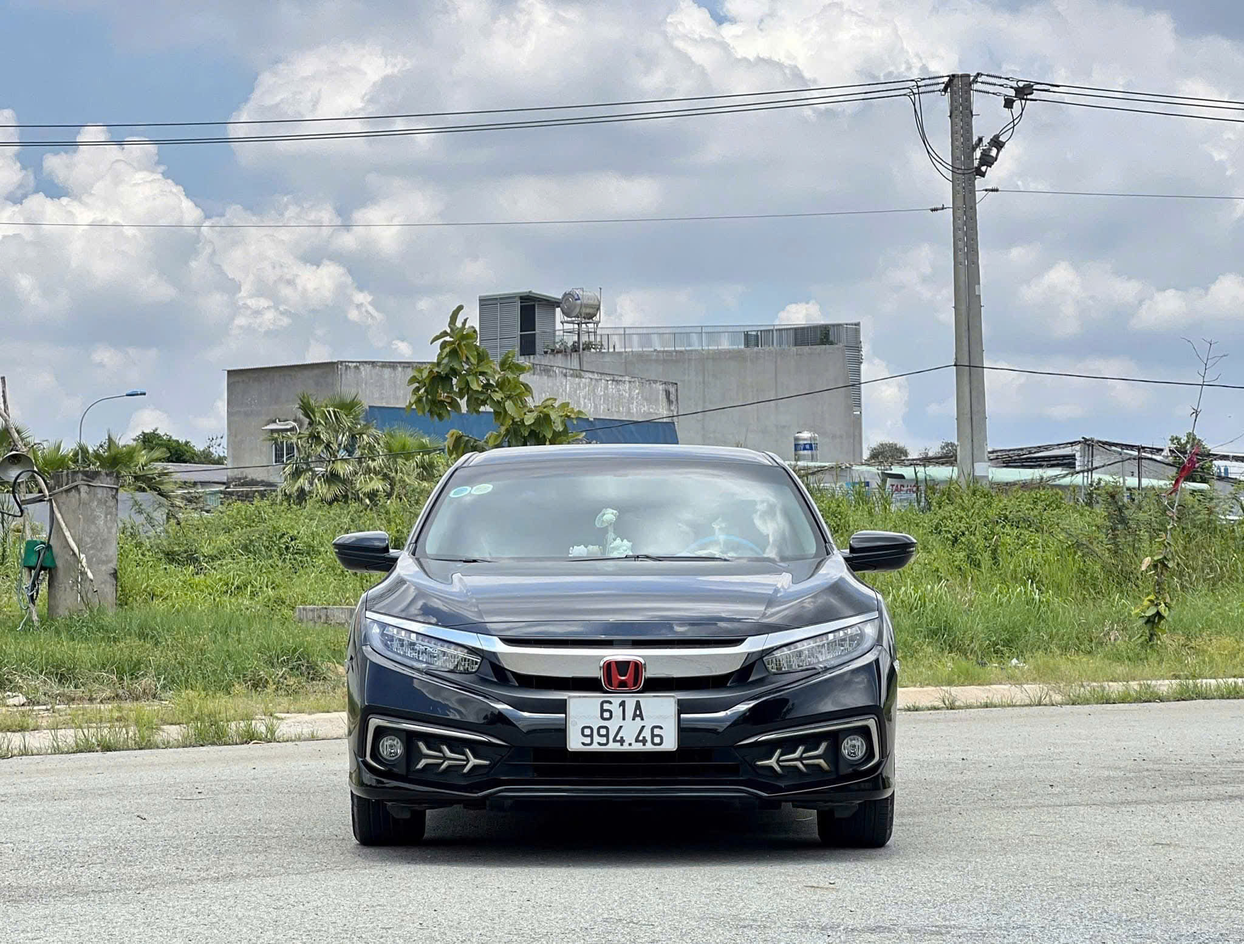Bien-so: (572, 693, 677, 757)
